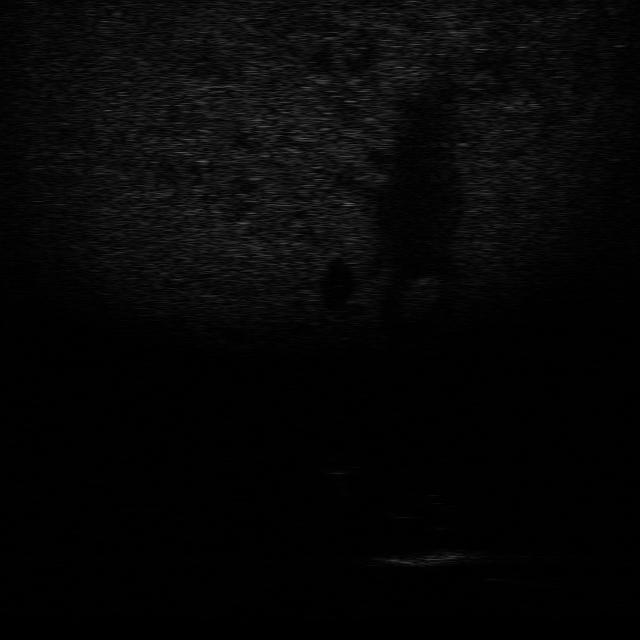ball: (314, 448, 358, 476)
metal bucket: (368, 544, 488, 572)
tyre: (380, 491, 452, 521)
